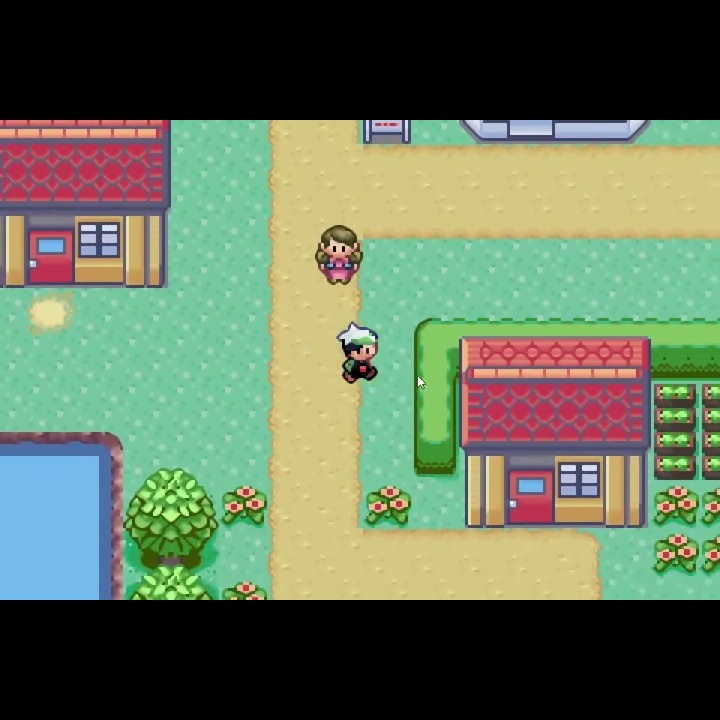house: (457, 333, 653, 534), (1, 119, 173, 292)
npc: (312, 221, 366, 288), (335, 319, 380, 384)
wall: (124, 467, 220, 567), (124, 564, 219, 599)
